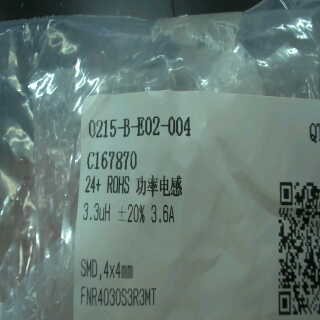3.3uH: (81, 200, 117, 227)
